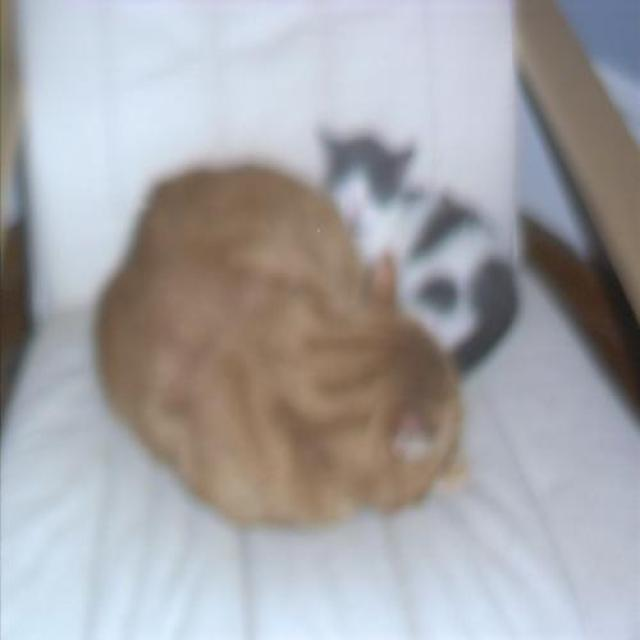Cats: (91, 160, 466, 528), (315, 123, 520, 374)
